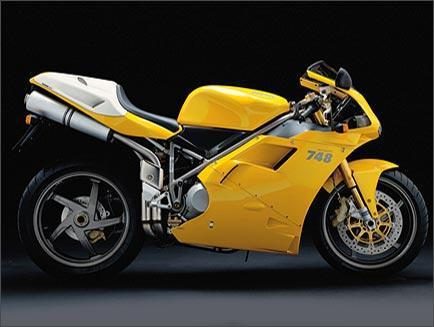motorcycle: (11, 46, 434, 296)
